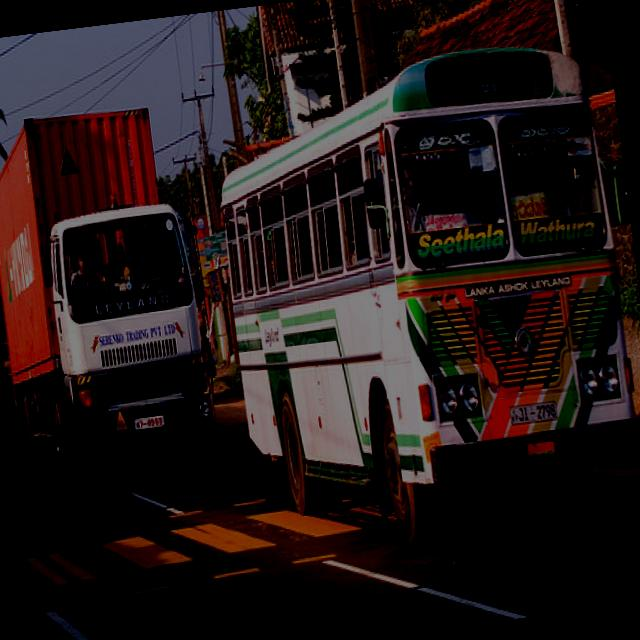Vehicle: (201, 36, 640, 561), (0, 98, 225, 509)
